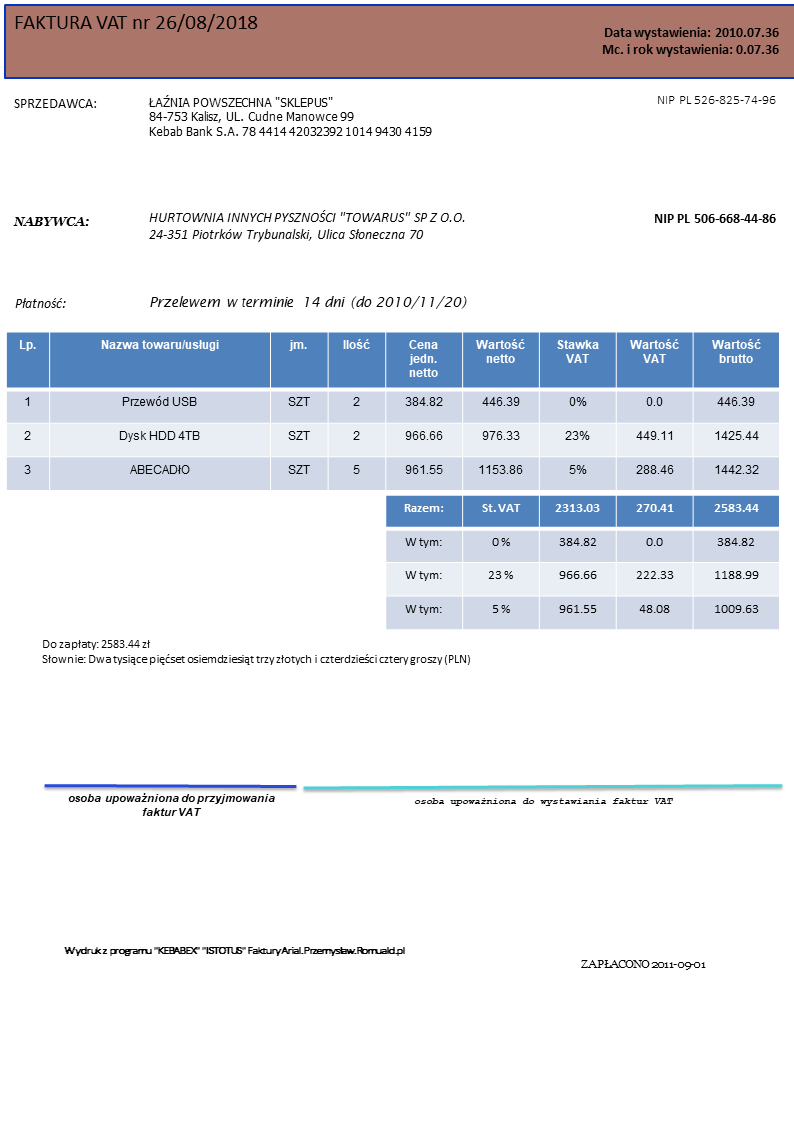Table: (5, 330, 781, 492), (384, 494, 781, 631)
TextBox: (40, 635, 473, 668), (146, 92, 435, 139), (146, 208, 467, 242), (599, 24, 783, 58), (67, 792, 279, 819), (12, 12, 260, 35), (61, 943, 408, 958), (148, 294, 470, 310), (411, 794, 676, 808), (651, 210, 779, 227), (578, 956, 709, 972), (655, 92, 779, 108), (11, 94, 99, 110), (11, 213, 93, 229), (12, 295, 67, 310)
